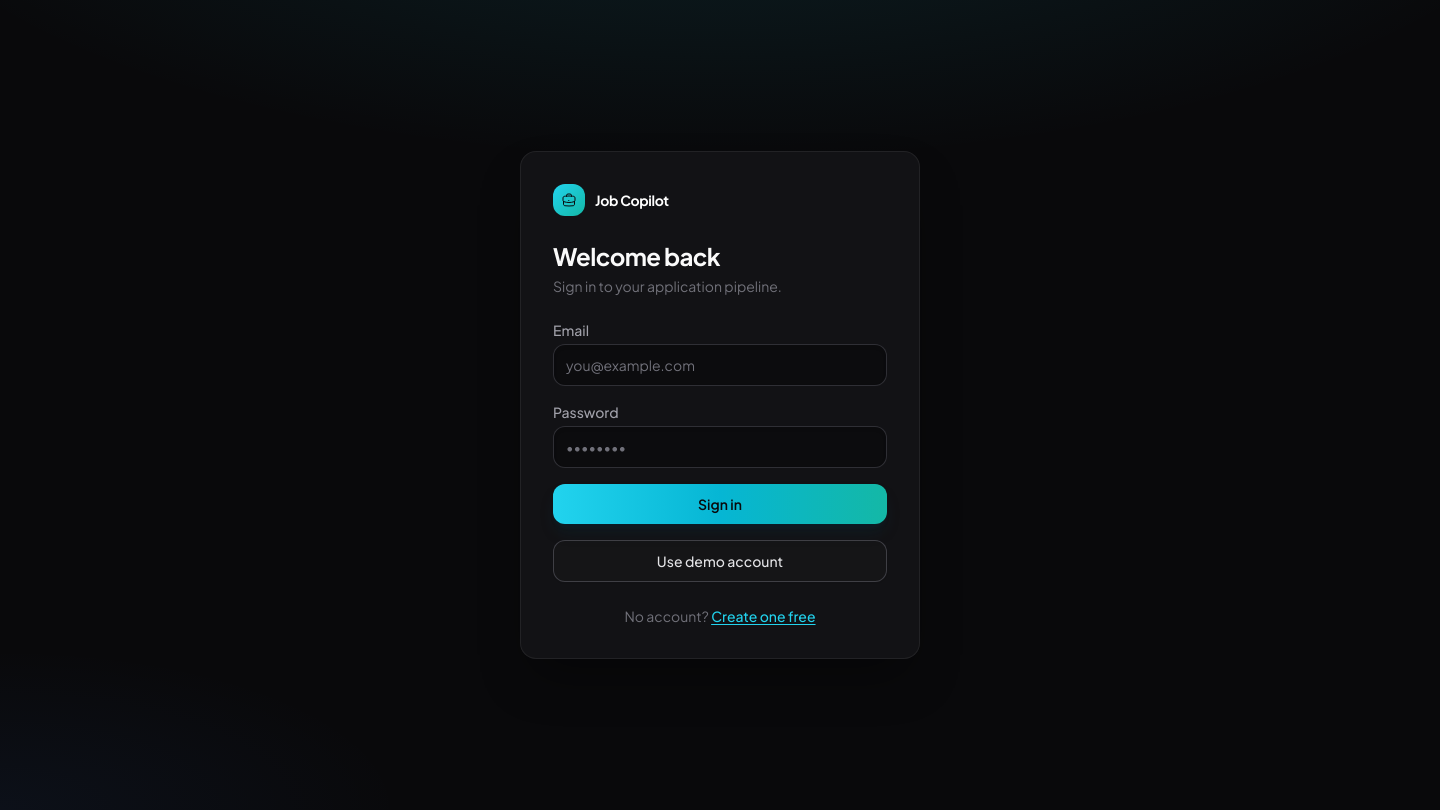
Test: Frontend auth + job tracker flow › renders jobs on the kanban board and can delete one
The width and height of the screenshot is (1440, 810).
Later steps or results of the test are not shown.
Click the button with test id "login-demo" at [720, 561], box 553,540 -> 887,582
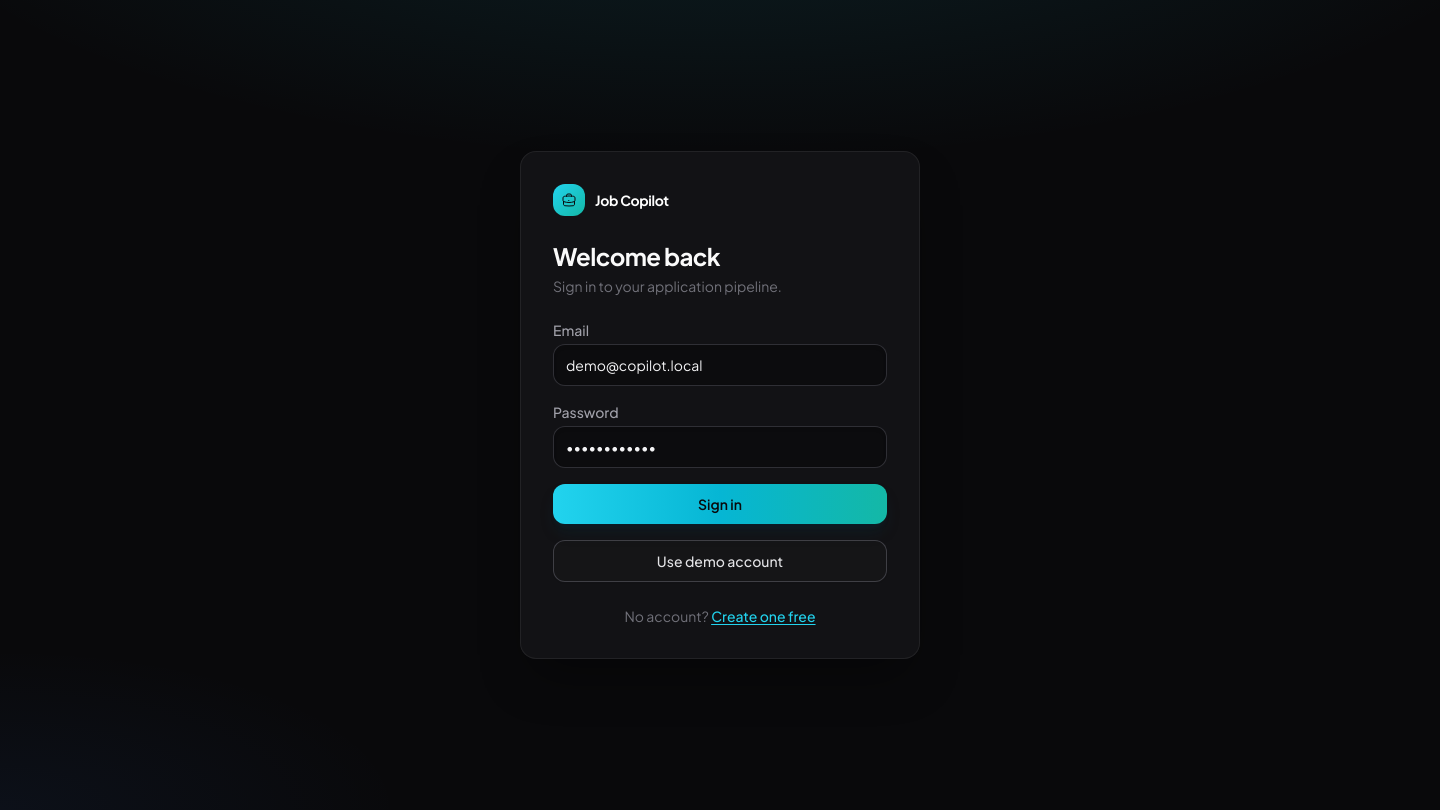
Click the button with test id "login-submit" at [720, 504], box 553,484 -> 887,524
(page scrolled)
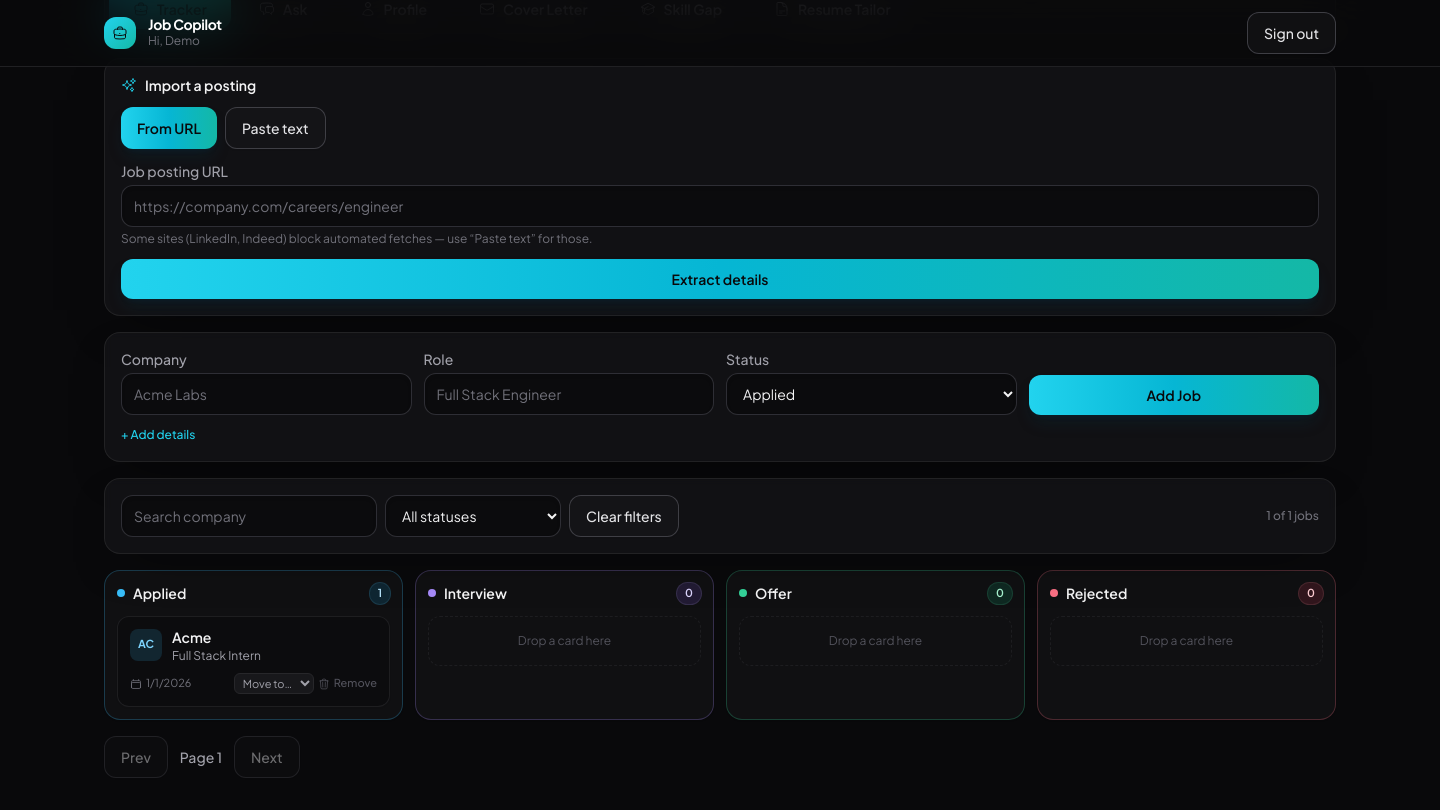
Check: the element with test id "job-card" shows "Acme", box 172,628 -> 211,646
